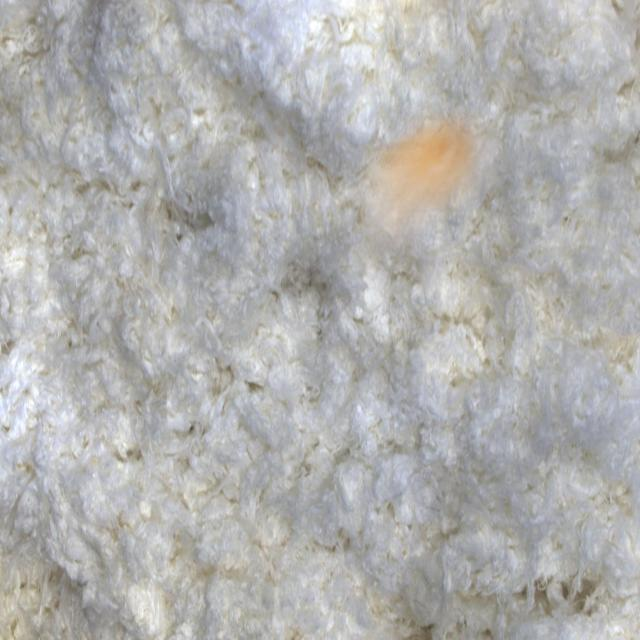dust: (349, 107, 508, 298)
